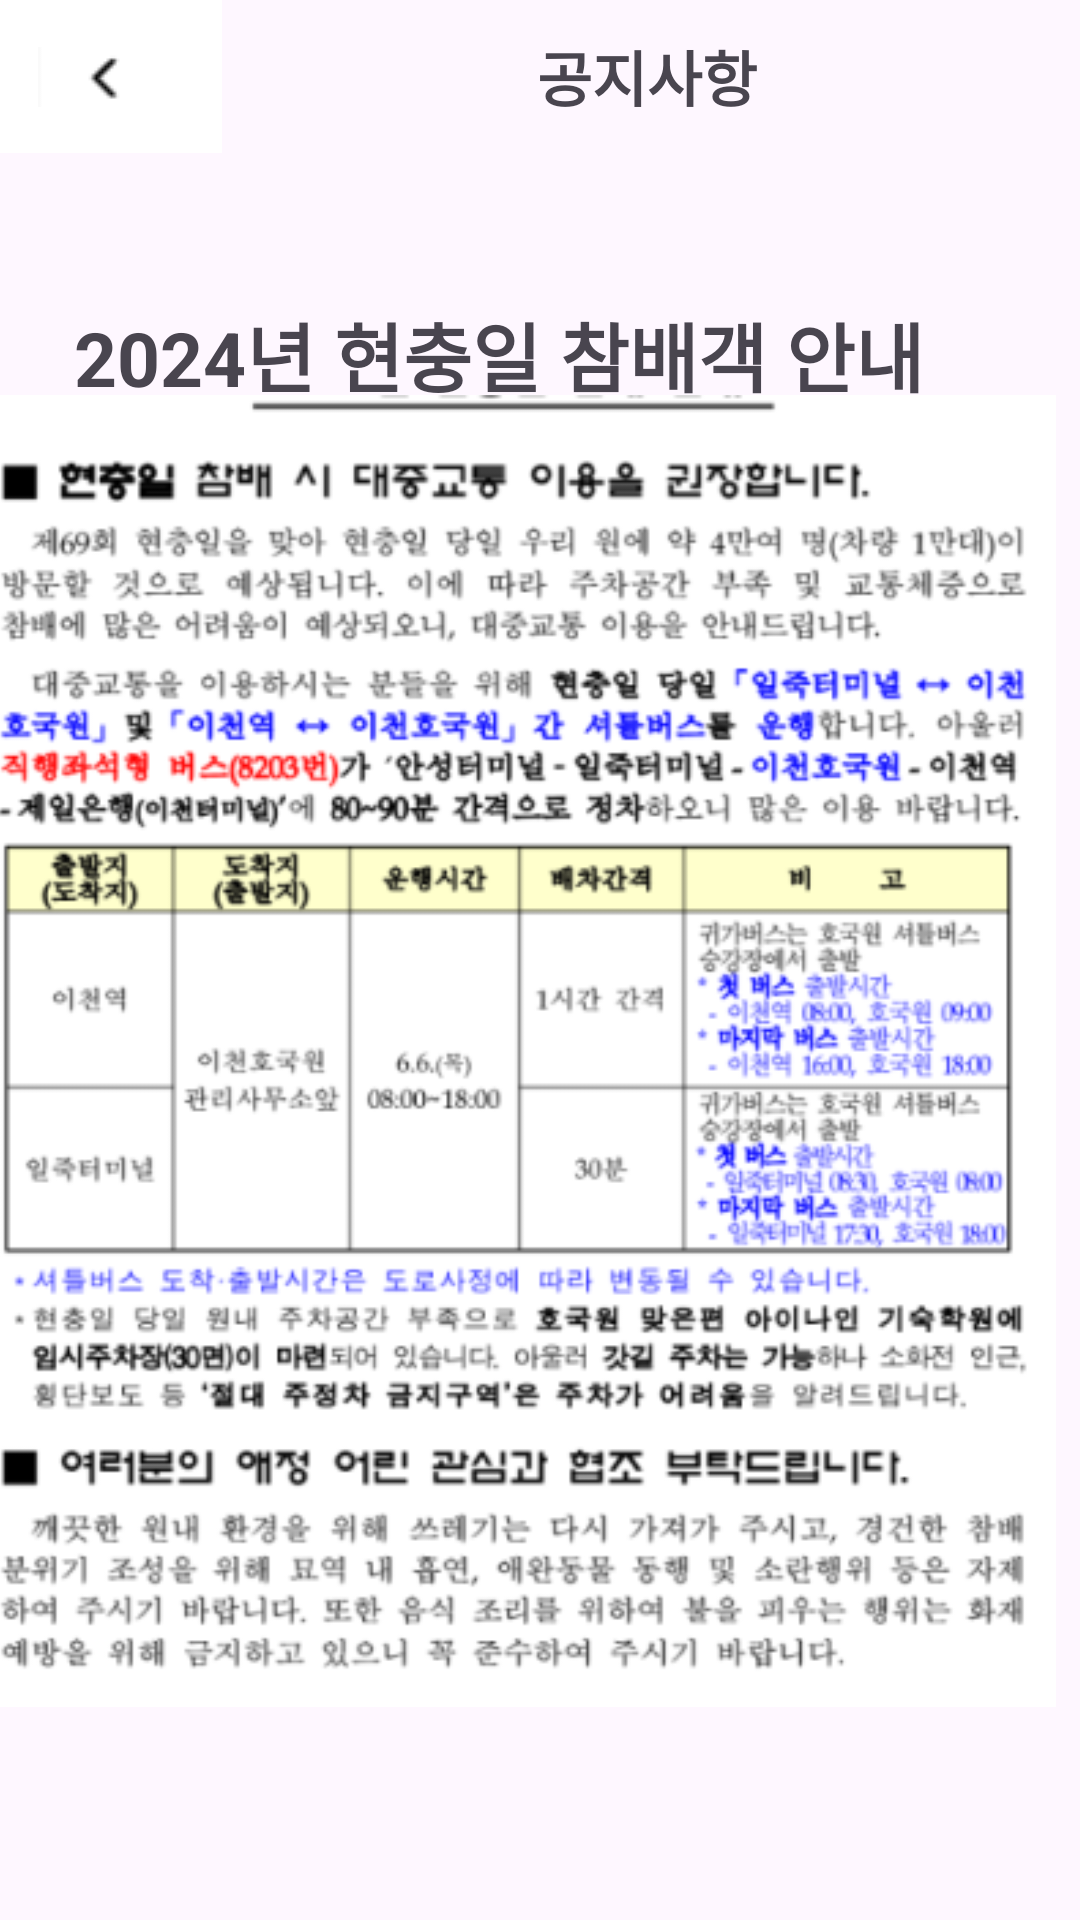

Where to tap for icons on this 1080w x 1920h app screen, as [x,y]:
back: [104,78]
